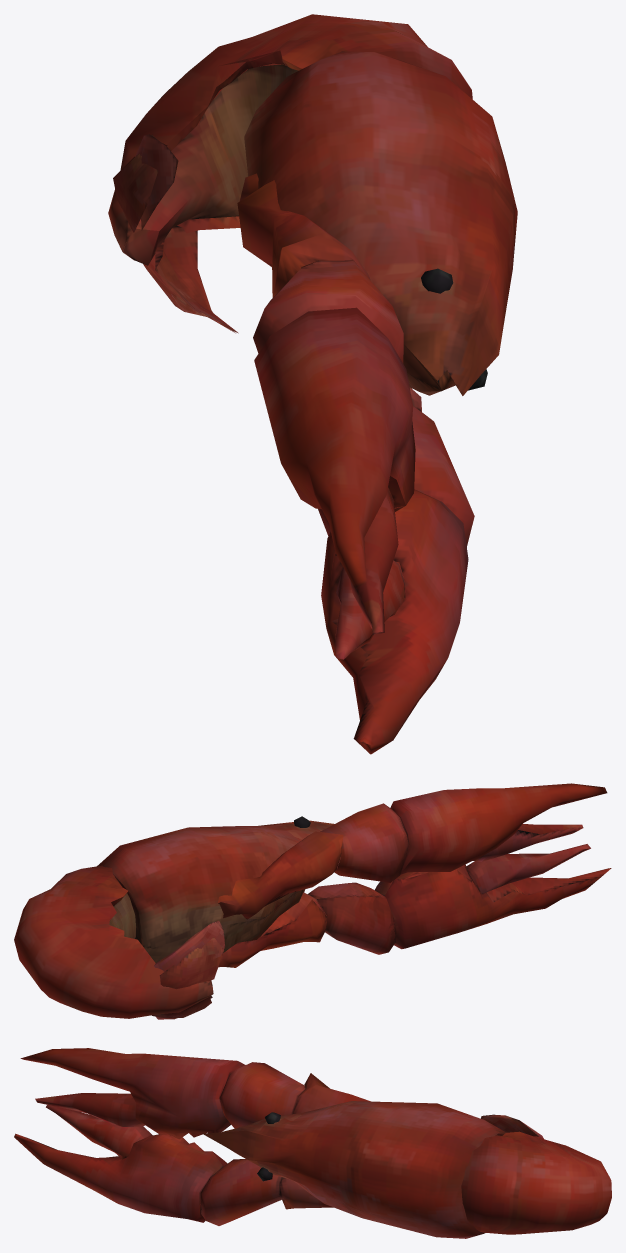
Rendered from ref_redshrimp.fbx.
The picture shows the model from 3 angles, top to bottom: view 1: azimuth 30°, elevation 25°; view 2: azimuth 150°, elevation 25°; view 3: azimuth 270°, elevation 25°; orthographic projection. The views are drawn at different scales.
Visible parts, largest first — view 1: ref_redshrimp; view 2: ref_redshrimp; view 3: ref_redshrimp.
Part boxes in pixels (x1,y1,x2,y2): ref_redshrimp: (108, 14, 517, 754); ref_redshrimp: (14, 783, 611, 1019); ref_redshrimp: (14, 1048, 611, 1238).
Bounding box in the file's own units: 57.51 × 28.94 × 100.
1 material, 1 textured.
